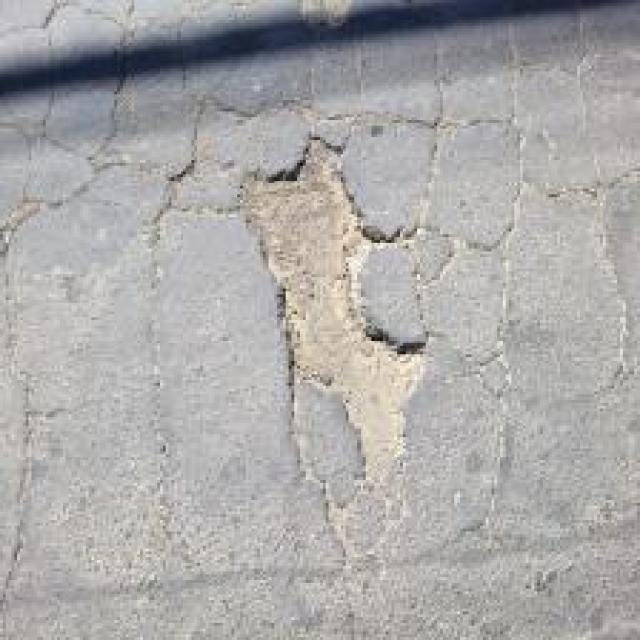BACHE: (245, 143, 421, 489)
GRIETA: (1, 265, 36, 606), (290, 386, 351, 570), (438, 401, 511, 553), (138, 217, 168, 458)
PIEL DE COCODRILO: (0, 0, 639, 408)
